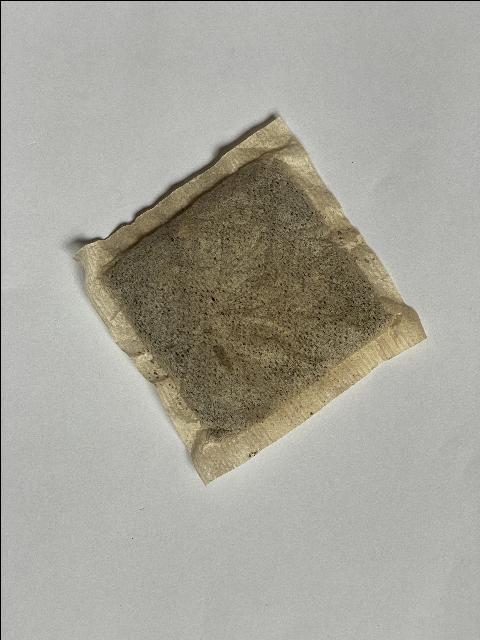teabag: (66, 109, 430, 489)
